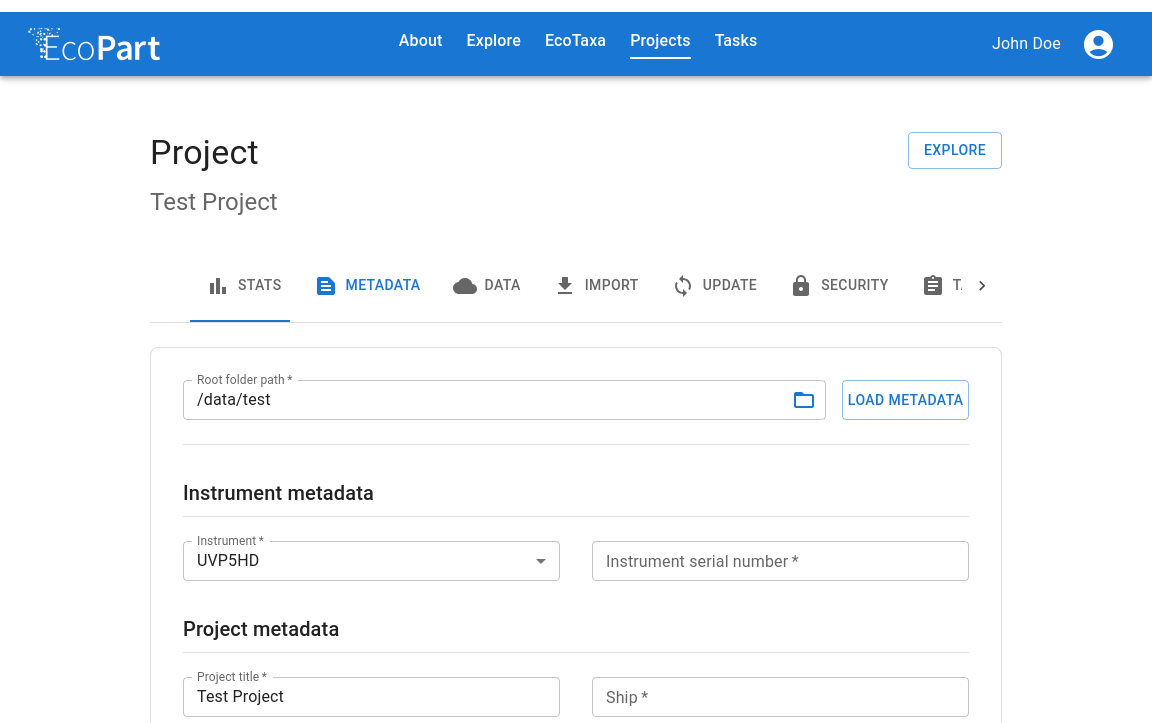
Test: ProjectDetailsPage (Functional) › TC-I3: should switch content when different tabs are clicked
expect the heading "Test Project" is shown: met, box [150,186,278,218]
Note: Click SECURITY tab
Click the tab "SECURITY" at (839, 286), box [773,250,905,322]
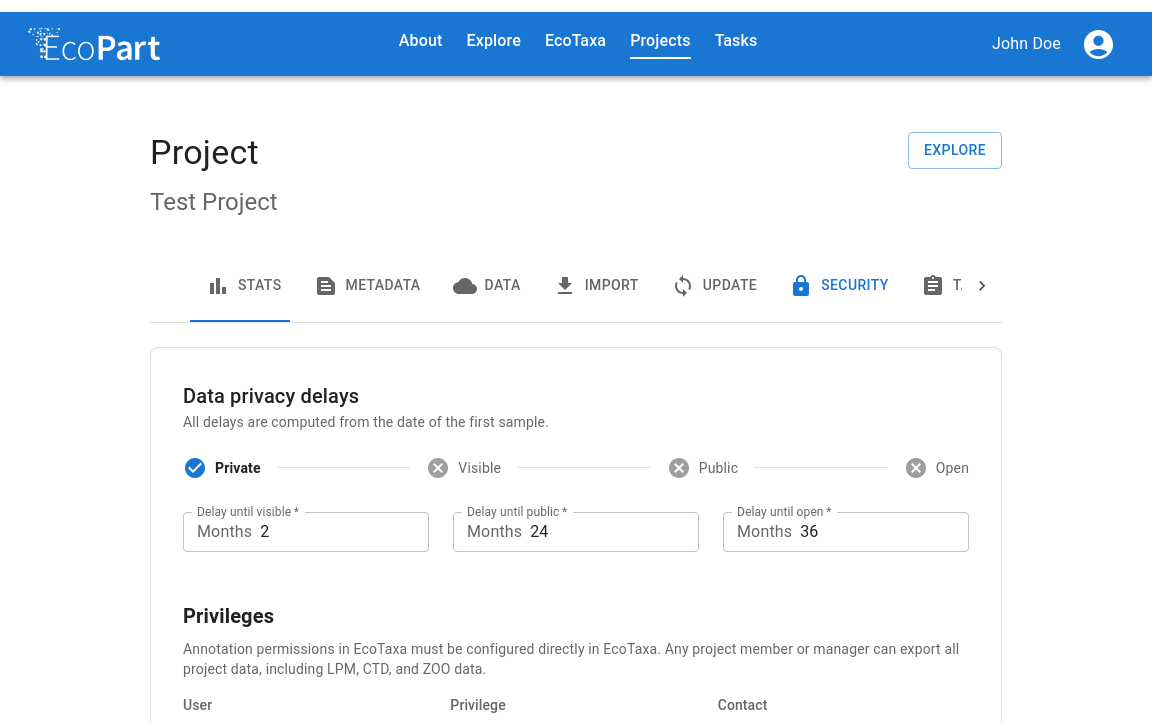
expect the heading "Data privacy delays" is shown: met, box [183,384,359,408]
Click the tab "STATS" at (244, 286), box [190,250,298,322]
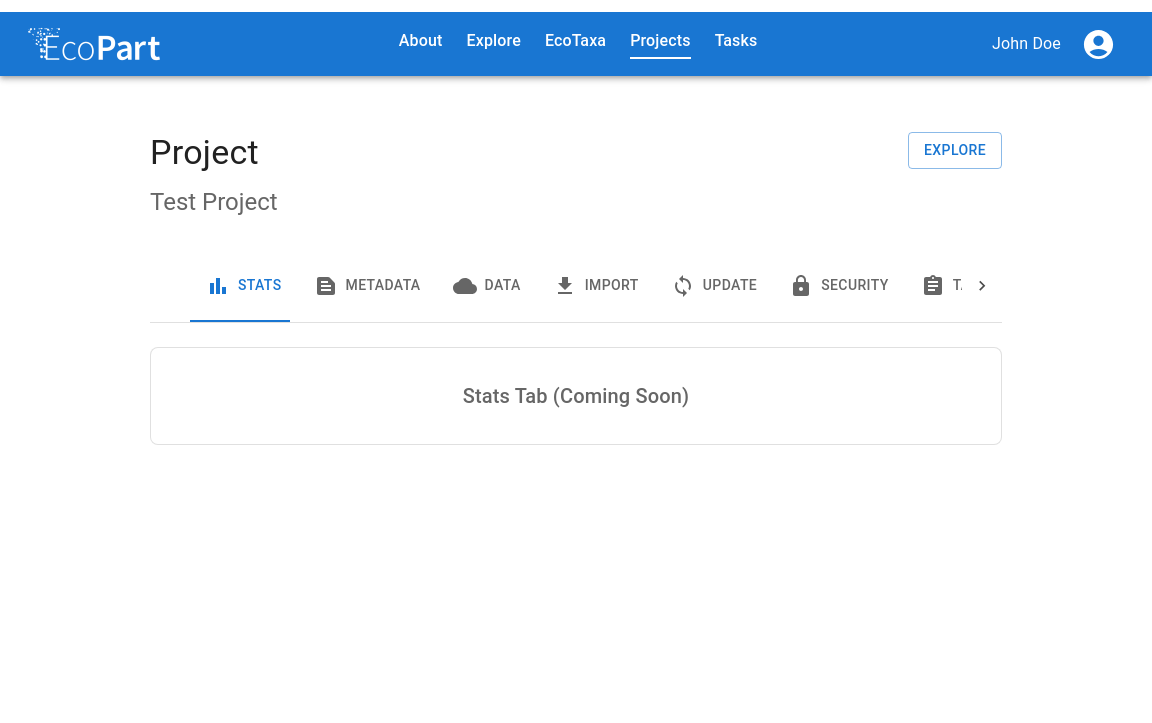
expect the heading "Stats Tab (Coming Soon)" is shown: met, box [463,384,689,408]
